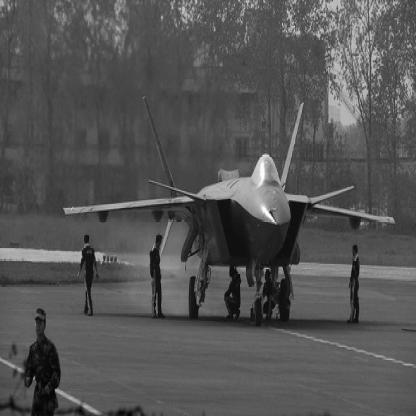J20: (63, 93, 398, 329)
